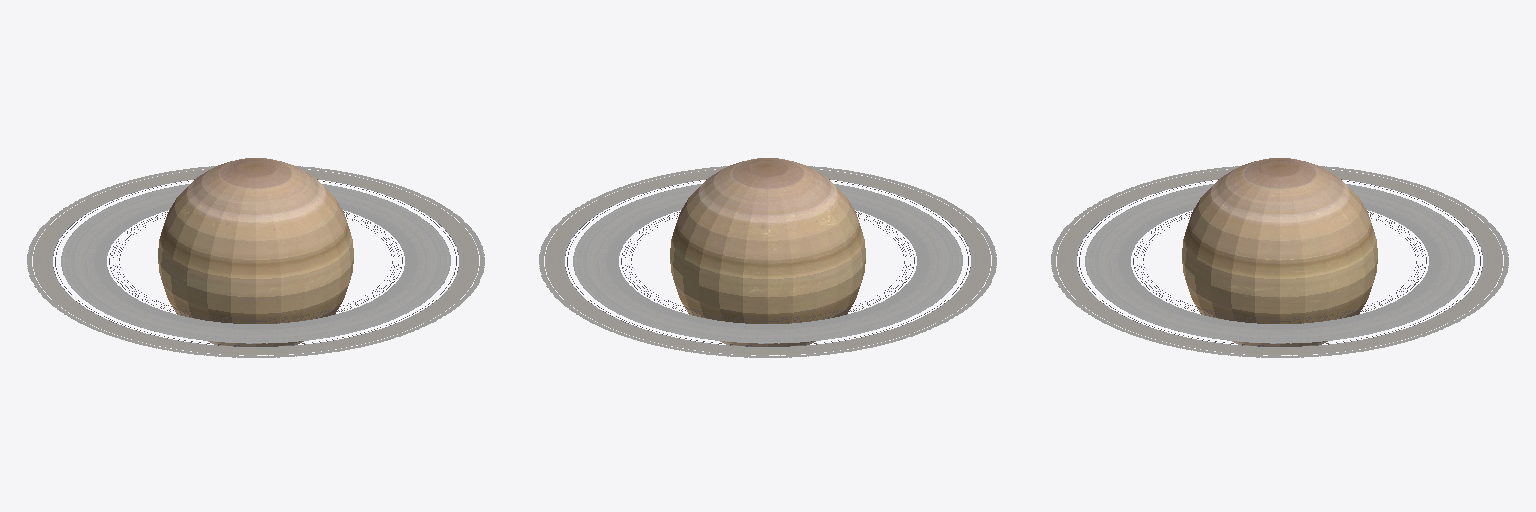
The picture shows the model from 3 angles: view 1: azimuth 30°, elevation 25°; view 2: azimuth 150°, elevation 25°; view 3: azimuth 270°, elevation 25°; orthographic projection.
Visible parts, largest first — view 1: Component_1_ID5, Saturn_ID79; view 2: Component_1_ID5, Saturn_ID79; view 3: Component_1_ID5, Saturn_ID79.
Boxes of the visible parts, <box> form: Component_1_ID5: <box>27,166,484,357</box>; Saturn_ID79: <box>158,158,353,346</box>; Component_1_ID5: <box>539,166,996,357</box>; Saturn_ID79: <box>670,158,865,346</box>; Component_1_ID5: <box>1051,166,1508,357</box>; Saturn_ID79: <box>1182,158,1377,346</box>.
Size of the model in its own units: 78.15 by 32.69 by 78.15.
2 materials, 2 textured.